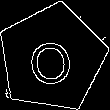O_N: (27, 29, 78, 87)
